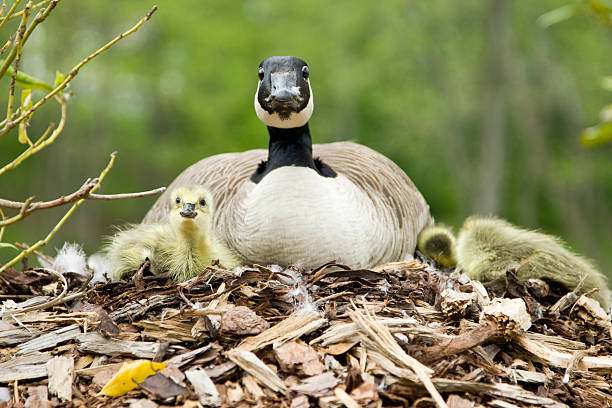goose: (126, 54, 432, 263)
